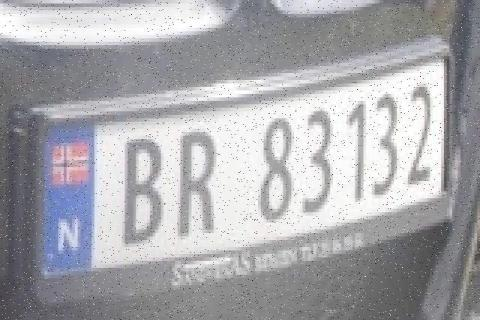LicensePlate: (12, 31, 460, 285)
